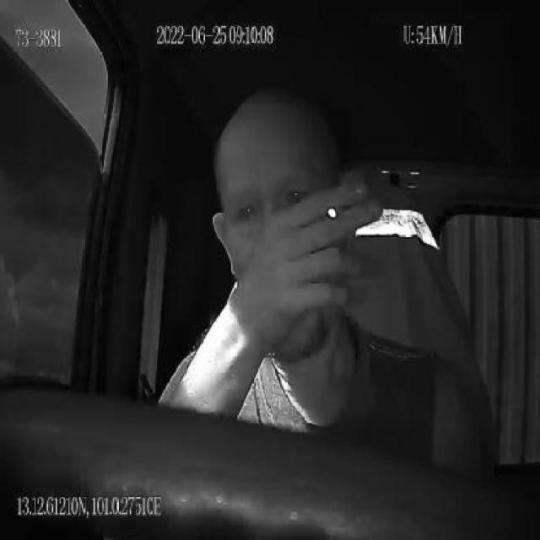smoking: (328, 199, 344, 221)
